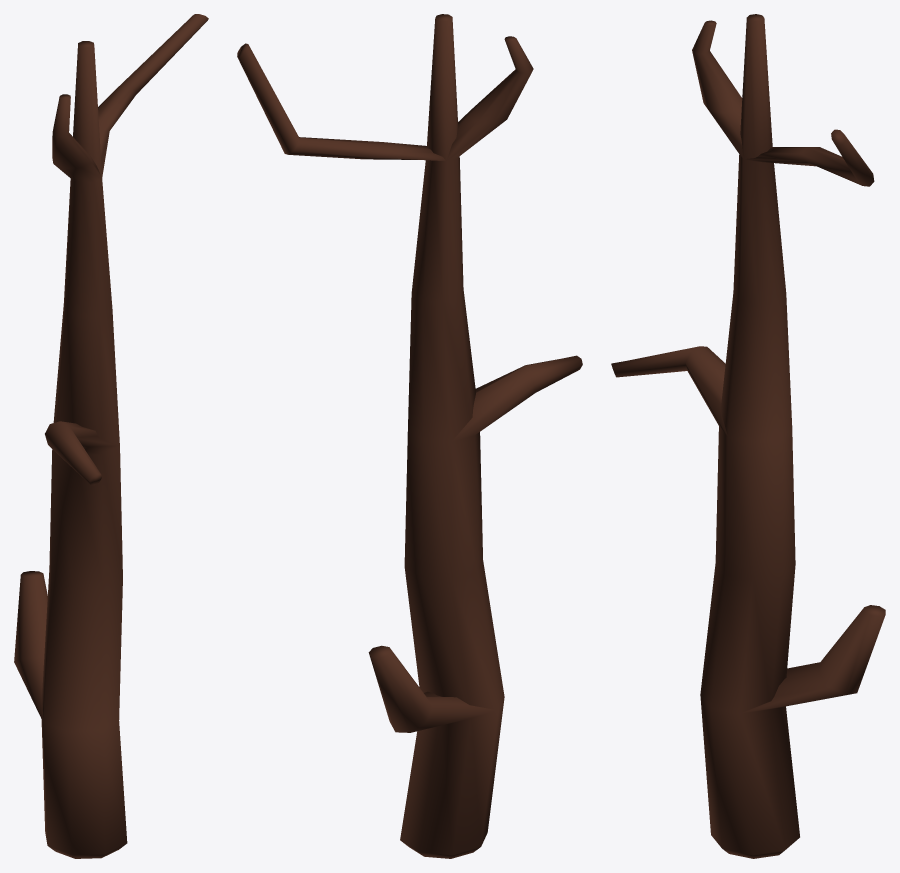
The model's file is tree-02_col.fbx.
3 renders of one model, left to right at view 1: azimuth 30°, elevation 25°; view 2: azimuth 150°, elevation 25°; view 3: azimuth 270°, elevation 25°, orthographic. The views are drawn at different scales.
Visible parts, largest first — view 1: tree-02.col; view 2: tree-02.col; view 3: tree-02.col.
Boxes of the visible parts, box(x1,y1,x2,y2) form: tree-02.col: box(14, 14, 208, 858); tree-02.col: box(237, 14, 582, 858); tree-02.col: box(611, 14, 885, 858).
Bounding box in the file's own units: 0.3572 × 1.21 × 0.3638.
Materials: 1 (1 with a texture image).
